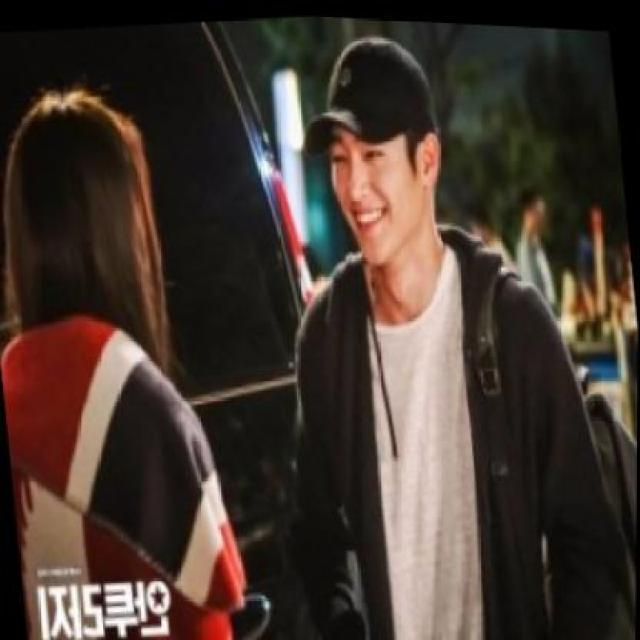hat: (288, 18, 441, 162)
